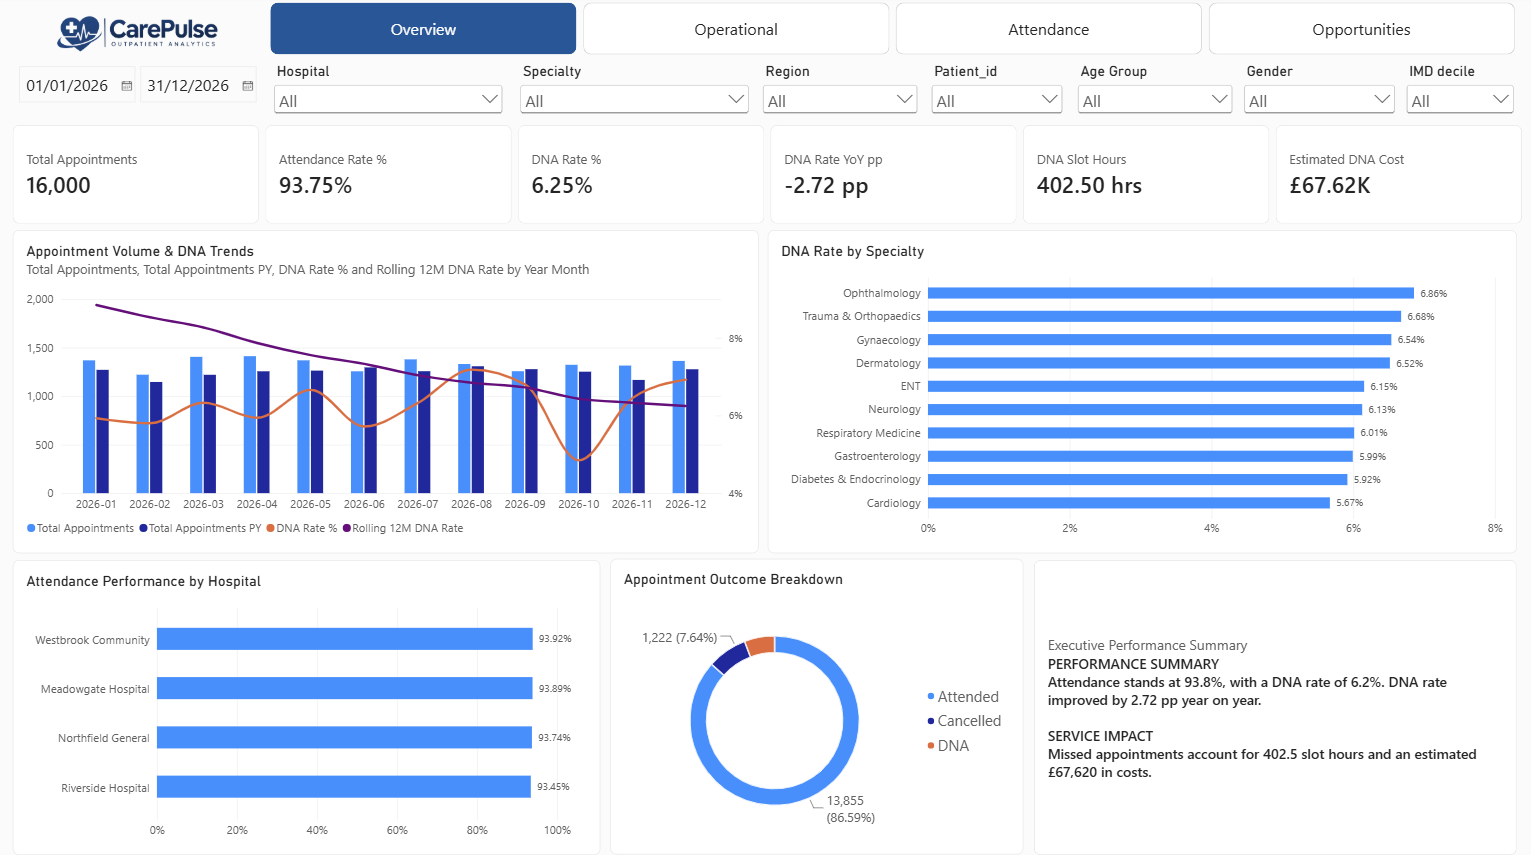

The page's visual inventory and layout, read from the dashboard file:
{"tool":"powerbi","page":{"name":"Overview","canvas":[1920,1080],"ordinal":0},"visuals":[{"type":"pageNavigator","box":[338.3,9.4,1555.8,65.5],"z":0},{"type":"cardVisual","fields":{"Data":["Measure.Total Appointments","01 Appointment Measures.Attendance Rate %","01 Appointment Measures.DNA Rate %","02 Time Intelligence.DNA Rate YoY pp","03 Operational Measures.DNA Slot Hours","05 Improvement Measures.Estimated DNA Cost"]},"box":[17.2,161.5,1883.7,123.8],"z":1000},{"type":"lineClusteredColumnComboChart","title":"Appointment Volume & DNA Trends","fields":{"Category":["calendar.Year Month"],"Y":["Measure.Total Appointments","02 Time Intelligence.Total Appointments PY"],"Y2":["Measure.DNA Rate %","02 Time Intelligence.Rolling 12M DNA Rate"]},"box":[17.4,293.4,930.3,403.4],"z":2000},{"type":"donutChart","title":"\tAppointment Outcome Breakdown","fields":{"Y":["01 Appointment Measures.Attended Appointments","01 Appointment Measures.Cancelled Appointments","01 Appointment Measures.DNA Appointments"]},"box":[762.4,702.5,515.3,368.6],"z":3000},{"type":"clusteredBarChart","title":"\tAttendance Performance by Hospital","fields":{"Category":["dim_hospitals.hospital_name"],"Y":["Measure.Attendance Rate %"]},"box":[17.2,704,732.6,368],"z":4000},{"type":"clusteredBarChart","title":"DNA Rate by Specialty","fields":{"Category":["dim_specialties.specialty_name"],"Y":["Measure.DNA Rate %"]},"box":[959.2,293.4,934.1,403.4],"z":5000},{"type":"slicer","fields":{"Values":["calendar.Date"]},"box":[17.1,84.4,321.1,65.9],"z":6000},{"type":"slicer","fields":{"Values":["dim_hospitals.hospital_name"]},"box":[337.9,84.4,294.8,73.3],"z":7000},{"type":"slicer","fields":{"Values":["dim_specialties.specialty_name"]},"box":[645,84.4,294.8,73.3],"z":8000},{"type":"slicer","fields":{"Values":["dim_hospitals.region"]},"box":[947.5,84.4,202.7,73.3],"z":9000},{"type":"slicer","fields":{"Values":["dim_patients.Age Group"]},"box":[1340.3,84.4,202.7,73.3],"z":10000},{"type":"slicer","fields":{"Values":["dim_patients.gender"]},"box":[1547.6,84.4,198,71.7],"z":11000},{"type":"slicer","fields":{"Values":["dim_patients.imd_decile"]},"box":[1750.3,84.4,143.4,73.3],"z":12000},{"type":"slicer","fields":{"Values":["dim_patients.patient_id"]},"box":[1157.9,84.4,173,73.3],"z":13000},{"type":"cardVisual","title":"Executive Performance Summary","fields":{"Data":["06_Dynamic_Insights.Overview Executive Insight"]},"box":[1291.2,704.5,602.2,368.6],"z":14000},{"type":"image","box":[21.8,9.4,299.3,74.8],"z":14001}]}

Visuals, with their boxes in screenshot pixels (x1, y1, x2, y2), scaled from the page's 1920x1080 canvas onto the 1531x855 screenshot:
pageNavigator: left=270, top=7, right=1510, bottom=59
cardVisual - Measure.Total Appointments x 01 Appointment Measures.Attendance Rate %: left=14, top=128, right=1516, bottom=226
"Appointment Volume & DNA Trends" lineClusteredColumnComboChart: left=14, top=232, right=756, bottom=552
"	Appointment Outcome Breakdown" donutChart: left=608, top=556, right=1019, bottom=848
"	Attendance Performance by Hospital" clusteredBarChart: left=14, top=557, right=598, bottom=849
"DNA Rate by Specialty" clusteredBarChart: left=765, top=232, right=1510, bottom=552
slicer - calendar.Date: left=14, top=67, right=270, bottom=119
slicer - dim_hospitals.hospital_name: left=269, top=67, right=505, bottom=125
slicer - dim_specialties.specialty_name: left=514, top=67, right=749, bottom=125
slicer - dim_hospitals.region: left=756, top=67, right=917, bottom=125
slicer - dim_patients.Age Group: left=1069, top=67, right=1230, bottom=125
slicer - dim_patients.gender: left=1234, top=67, right=1392, bottom=124
slicer - dim_patients.imd_decile: left=1396, top=67, right=1510, bottom=125
slicer - dim_patients.patient_id: left=923, top=67, right=1061, bottom=125
"Executive Performance Summary" cardVisual: left=1030, top=558, right=1510, bottom=850
image: left=17, top=7, right=256, bottom=67
